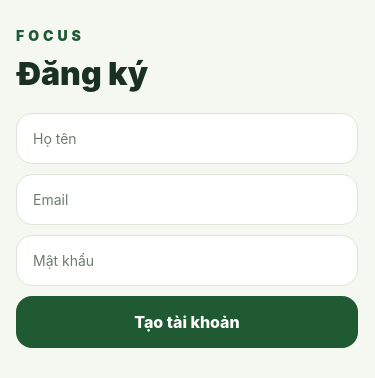
Test: RegisterScreen › blocks submit and shows validation when fields are empty
The width and height of the screenshot is (375, 378).
What coordinates should you click on to do the following:
click the element with test id "register-submit"
I would click on:
 (187, 322)
Its box is left=16, top=296, right=358, bottom=348.
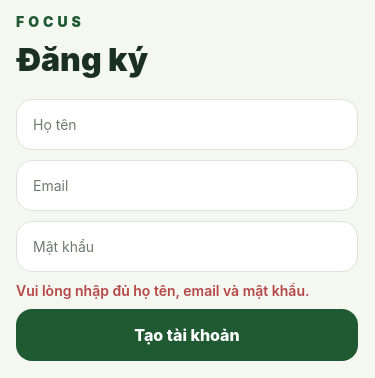
Check: the text "Vui lòng nhập đủ họ tên, email và mật khẩu." is shown, box left=16, top=282, right=358, bottom=299
